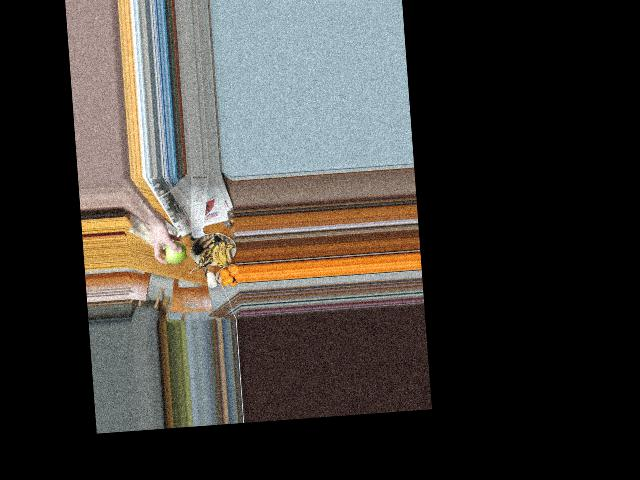apple: (164, 239, 187, 264)
